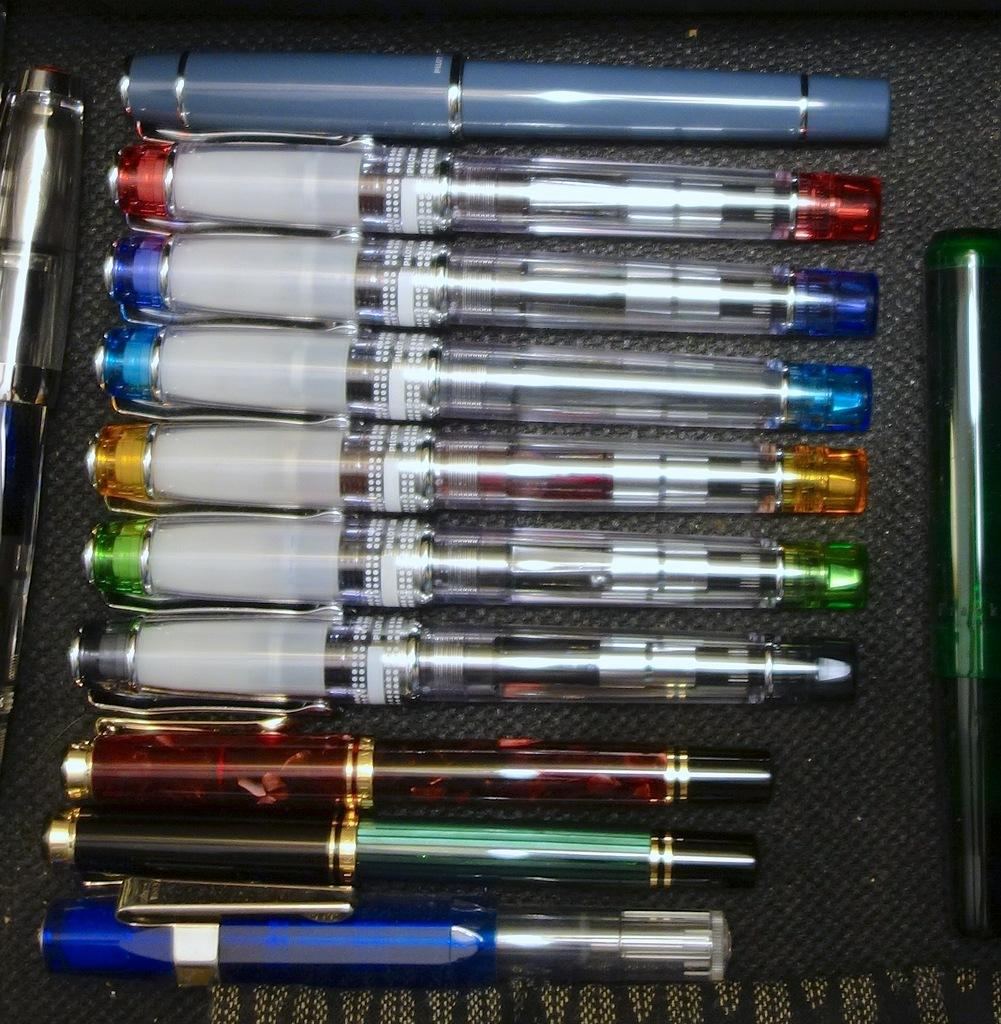pen: (64, 51, 895, 724), (38, 819, 769, 919), (57, 732, 775, 812), (33, 895, 728, 975), (0, 58, 74, 790), (938, 228, 1000, 957)
